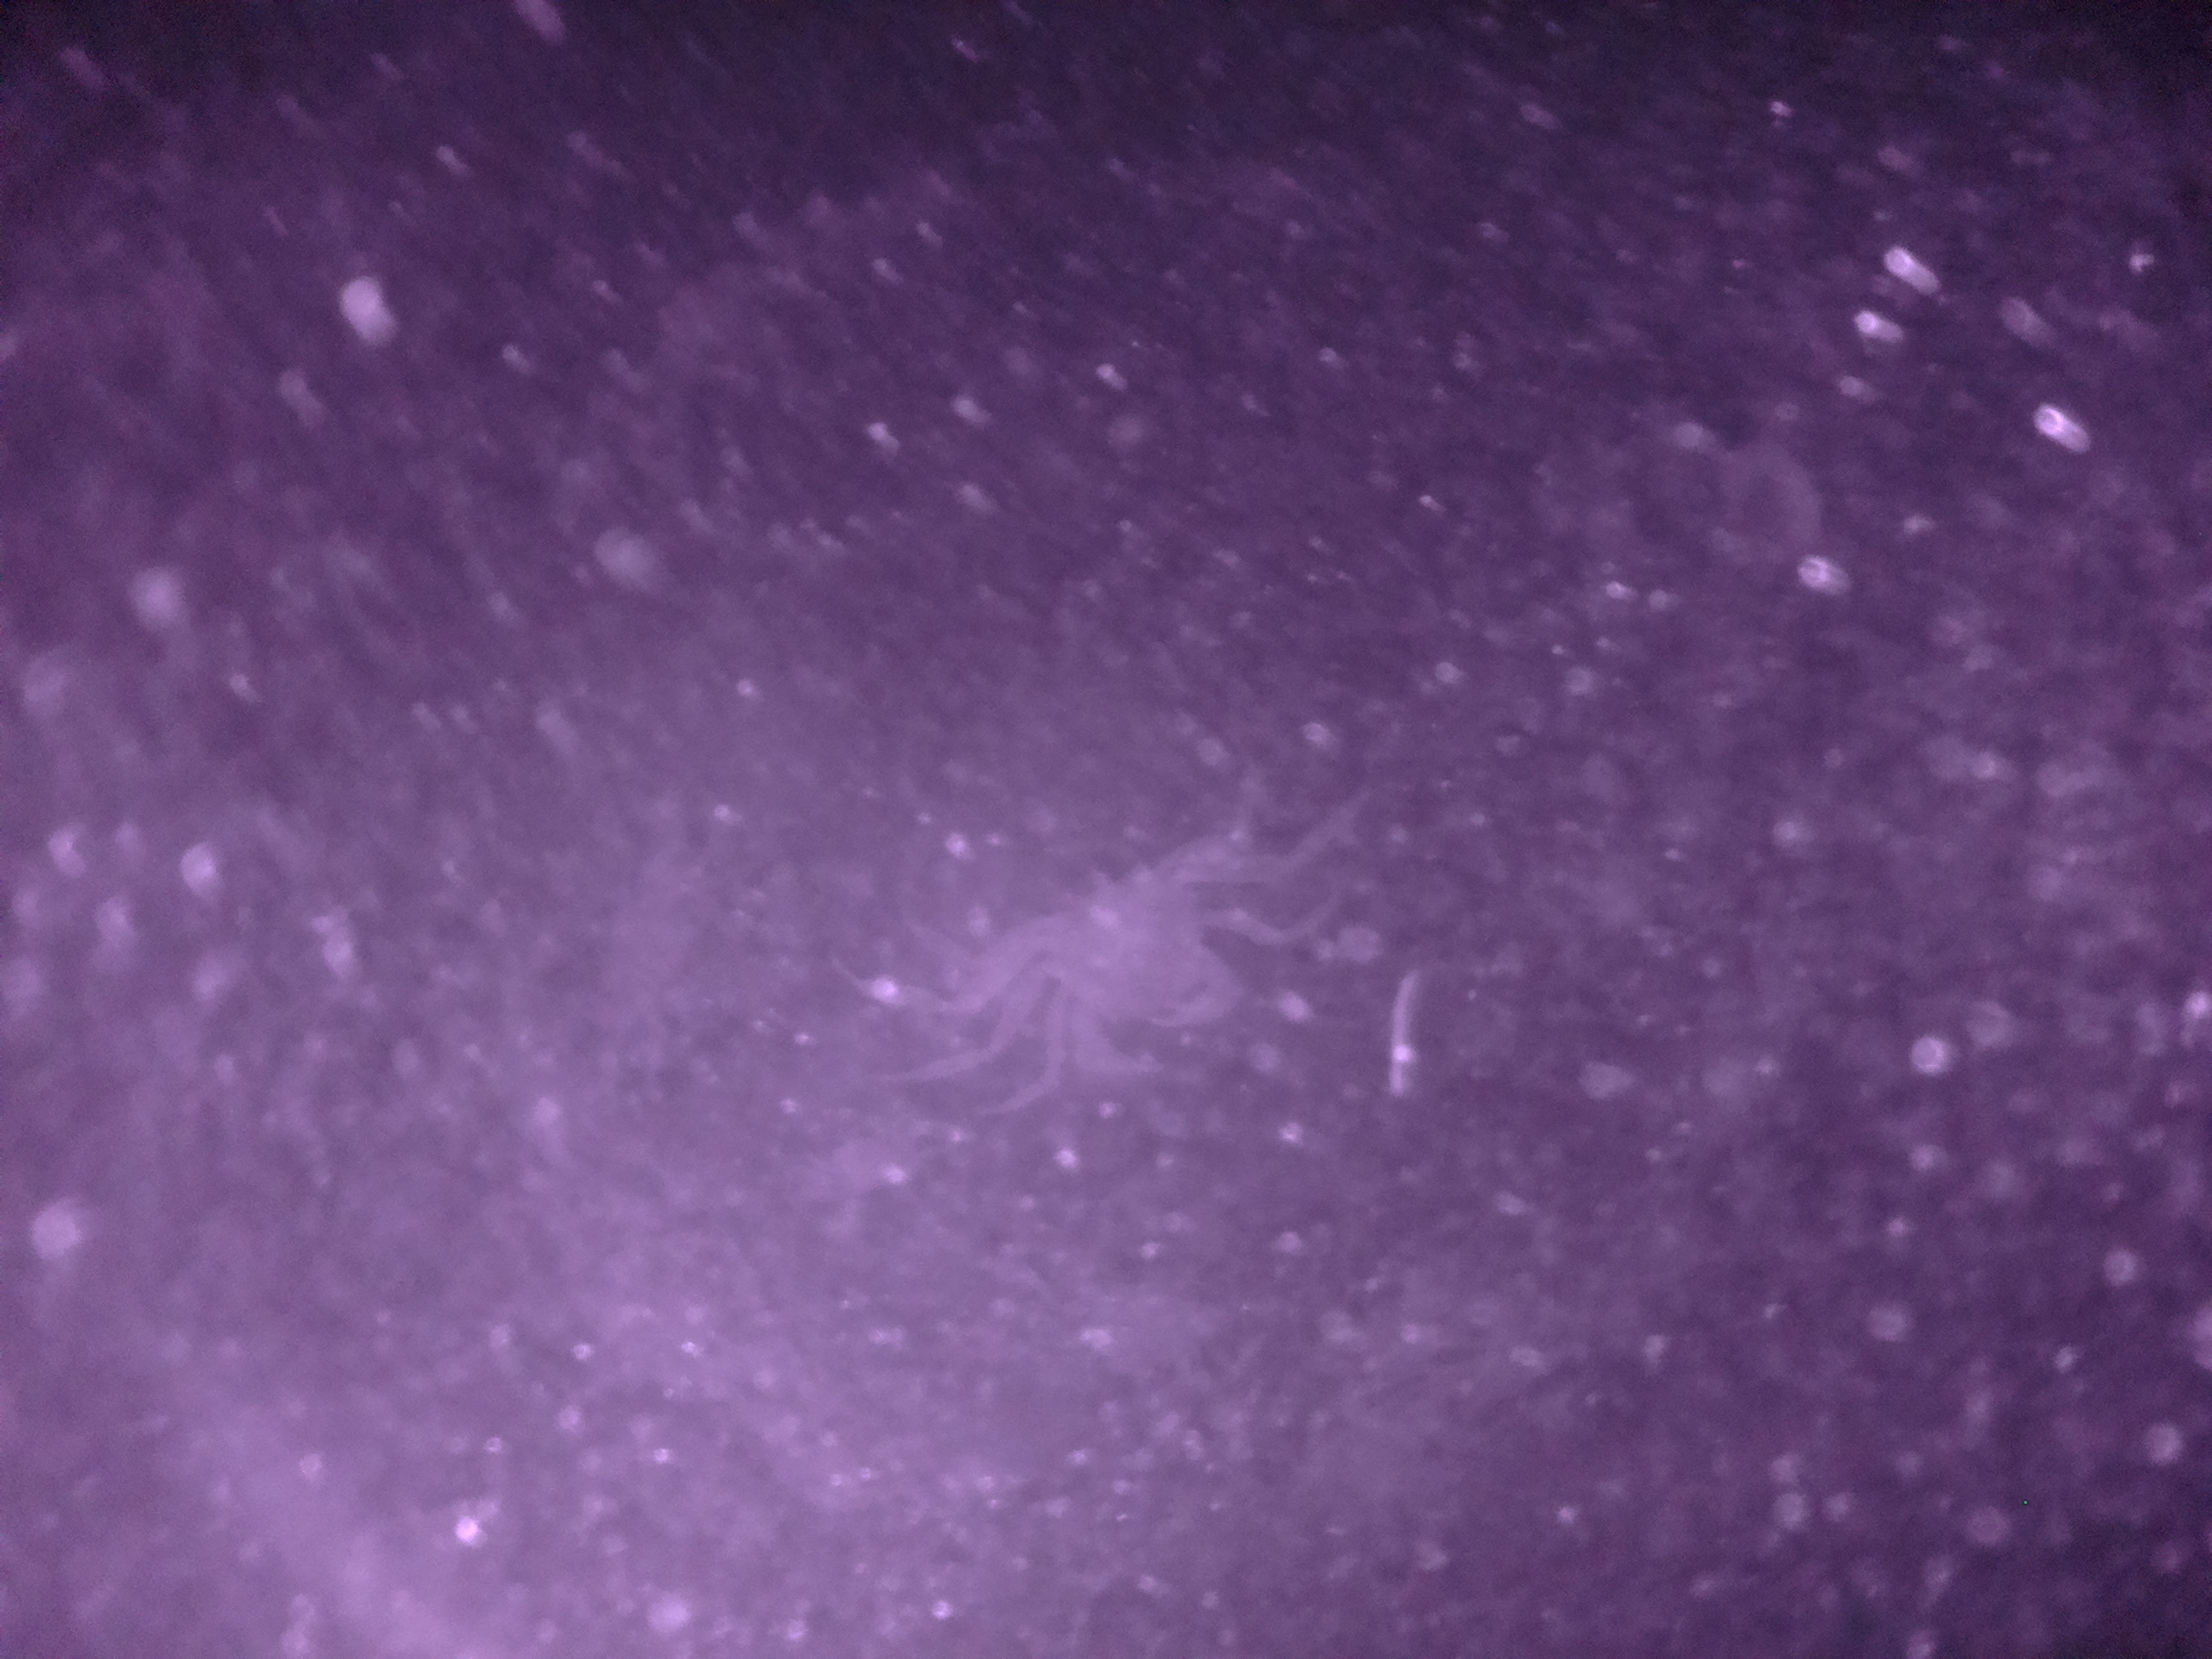Crab: (965, 828, 1291, 1089)
